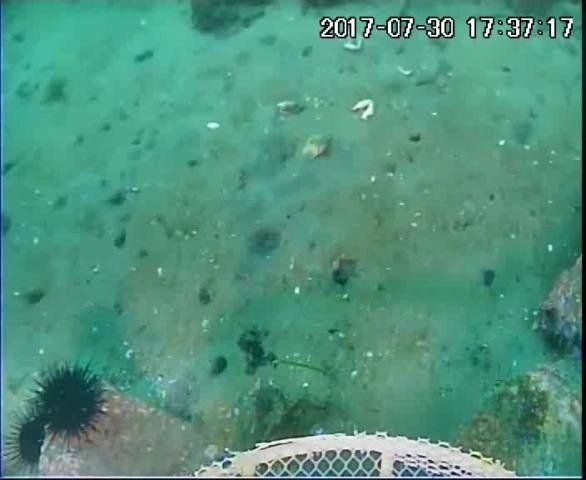echinus: (28, 359, 111, 447), (4, 407, 58, 473)
